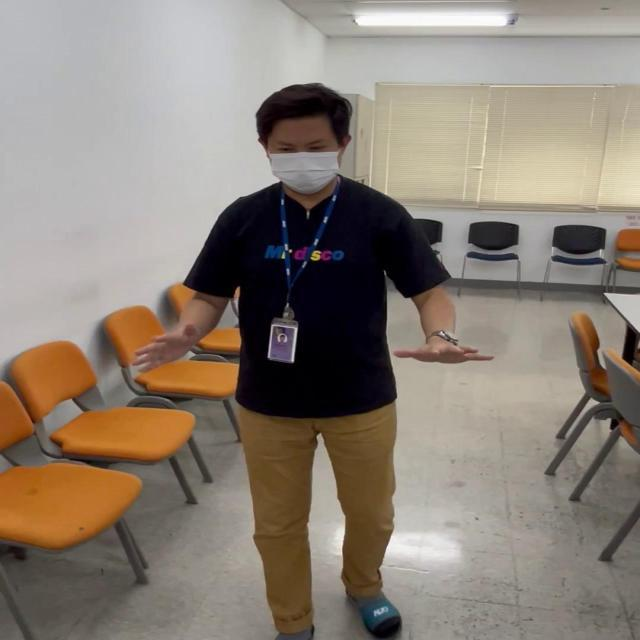bare_hand: (390, 328, 491, 368), (129, 318, 201, 374)
